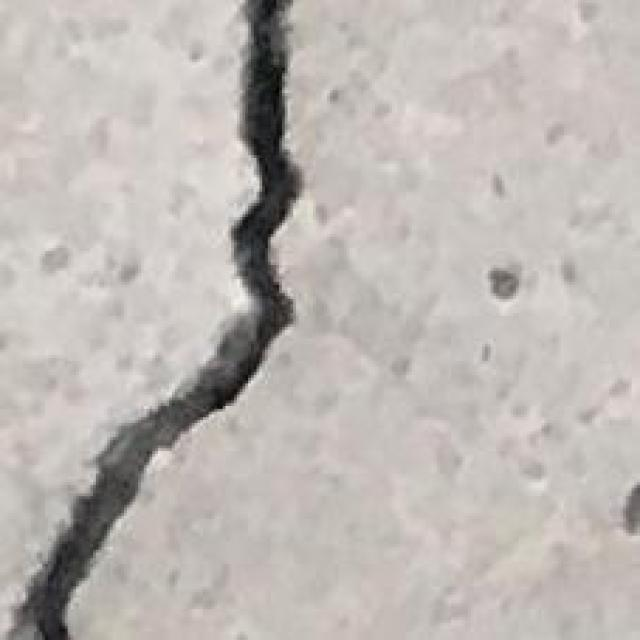Crack: (8, 3, 322, 640)
